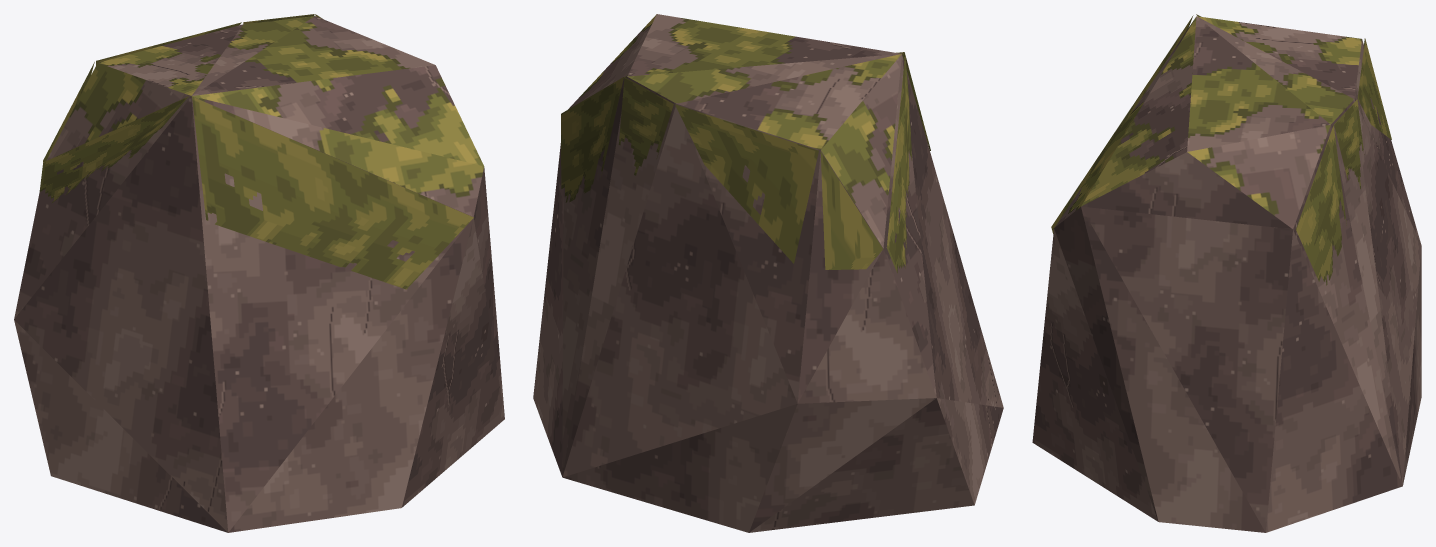
File: SM_RK03_BoulderLarge.fbx
3 renders of one model, left to right at view 1: azimuth 30°, elevation 25°; view 2: azimuth 150°, elevation 25°; view 3: azimuth 270°, elevation 25°, orthographic. The views are drawn at different scales.
Visible parts, largest first — view 1: RK03_Rock, RK03_RockTop, RK03_Moss; view 2: RK03_Rock, RK03_RockTop, RK03_Moss; view 3: RK03_Rock, RK03_RockTop, RK03_Moss.
Part boxes in pixels (x1,y1,x2,y2): RK03_Rock: [14, 96, 504, 532]; RK03_RockTop: [46, 16, 484, 216]; RK03_Moss: [39, 14, 473, 289]; RK03_Rock: [533, 54, 1003, 532]; RK03_RockTop: [568, 14, 901, 247]; RK03_Moss: [561, 52, 930, 273]; RK03_Rock: [1032, 39, 1421, 532]; RK03_RockTop: [1054, 16, 1361, 228]; RK03_Moss: [1051, 14, 1391, 285].
Size of the model in its own units: 2.3 by 1.98 by 1.9.
